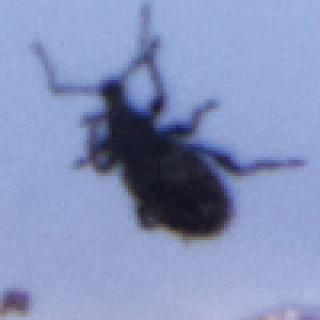bvw: (31, 5, 304, 246)
